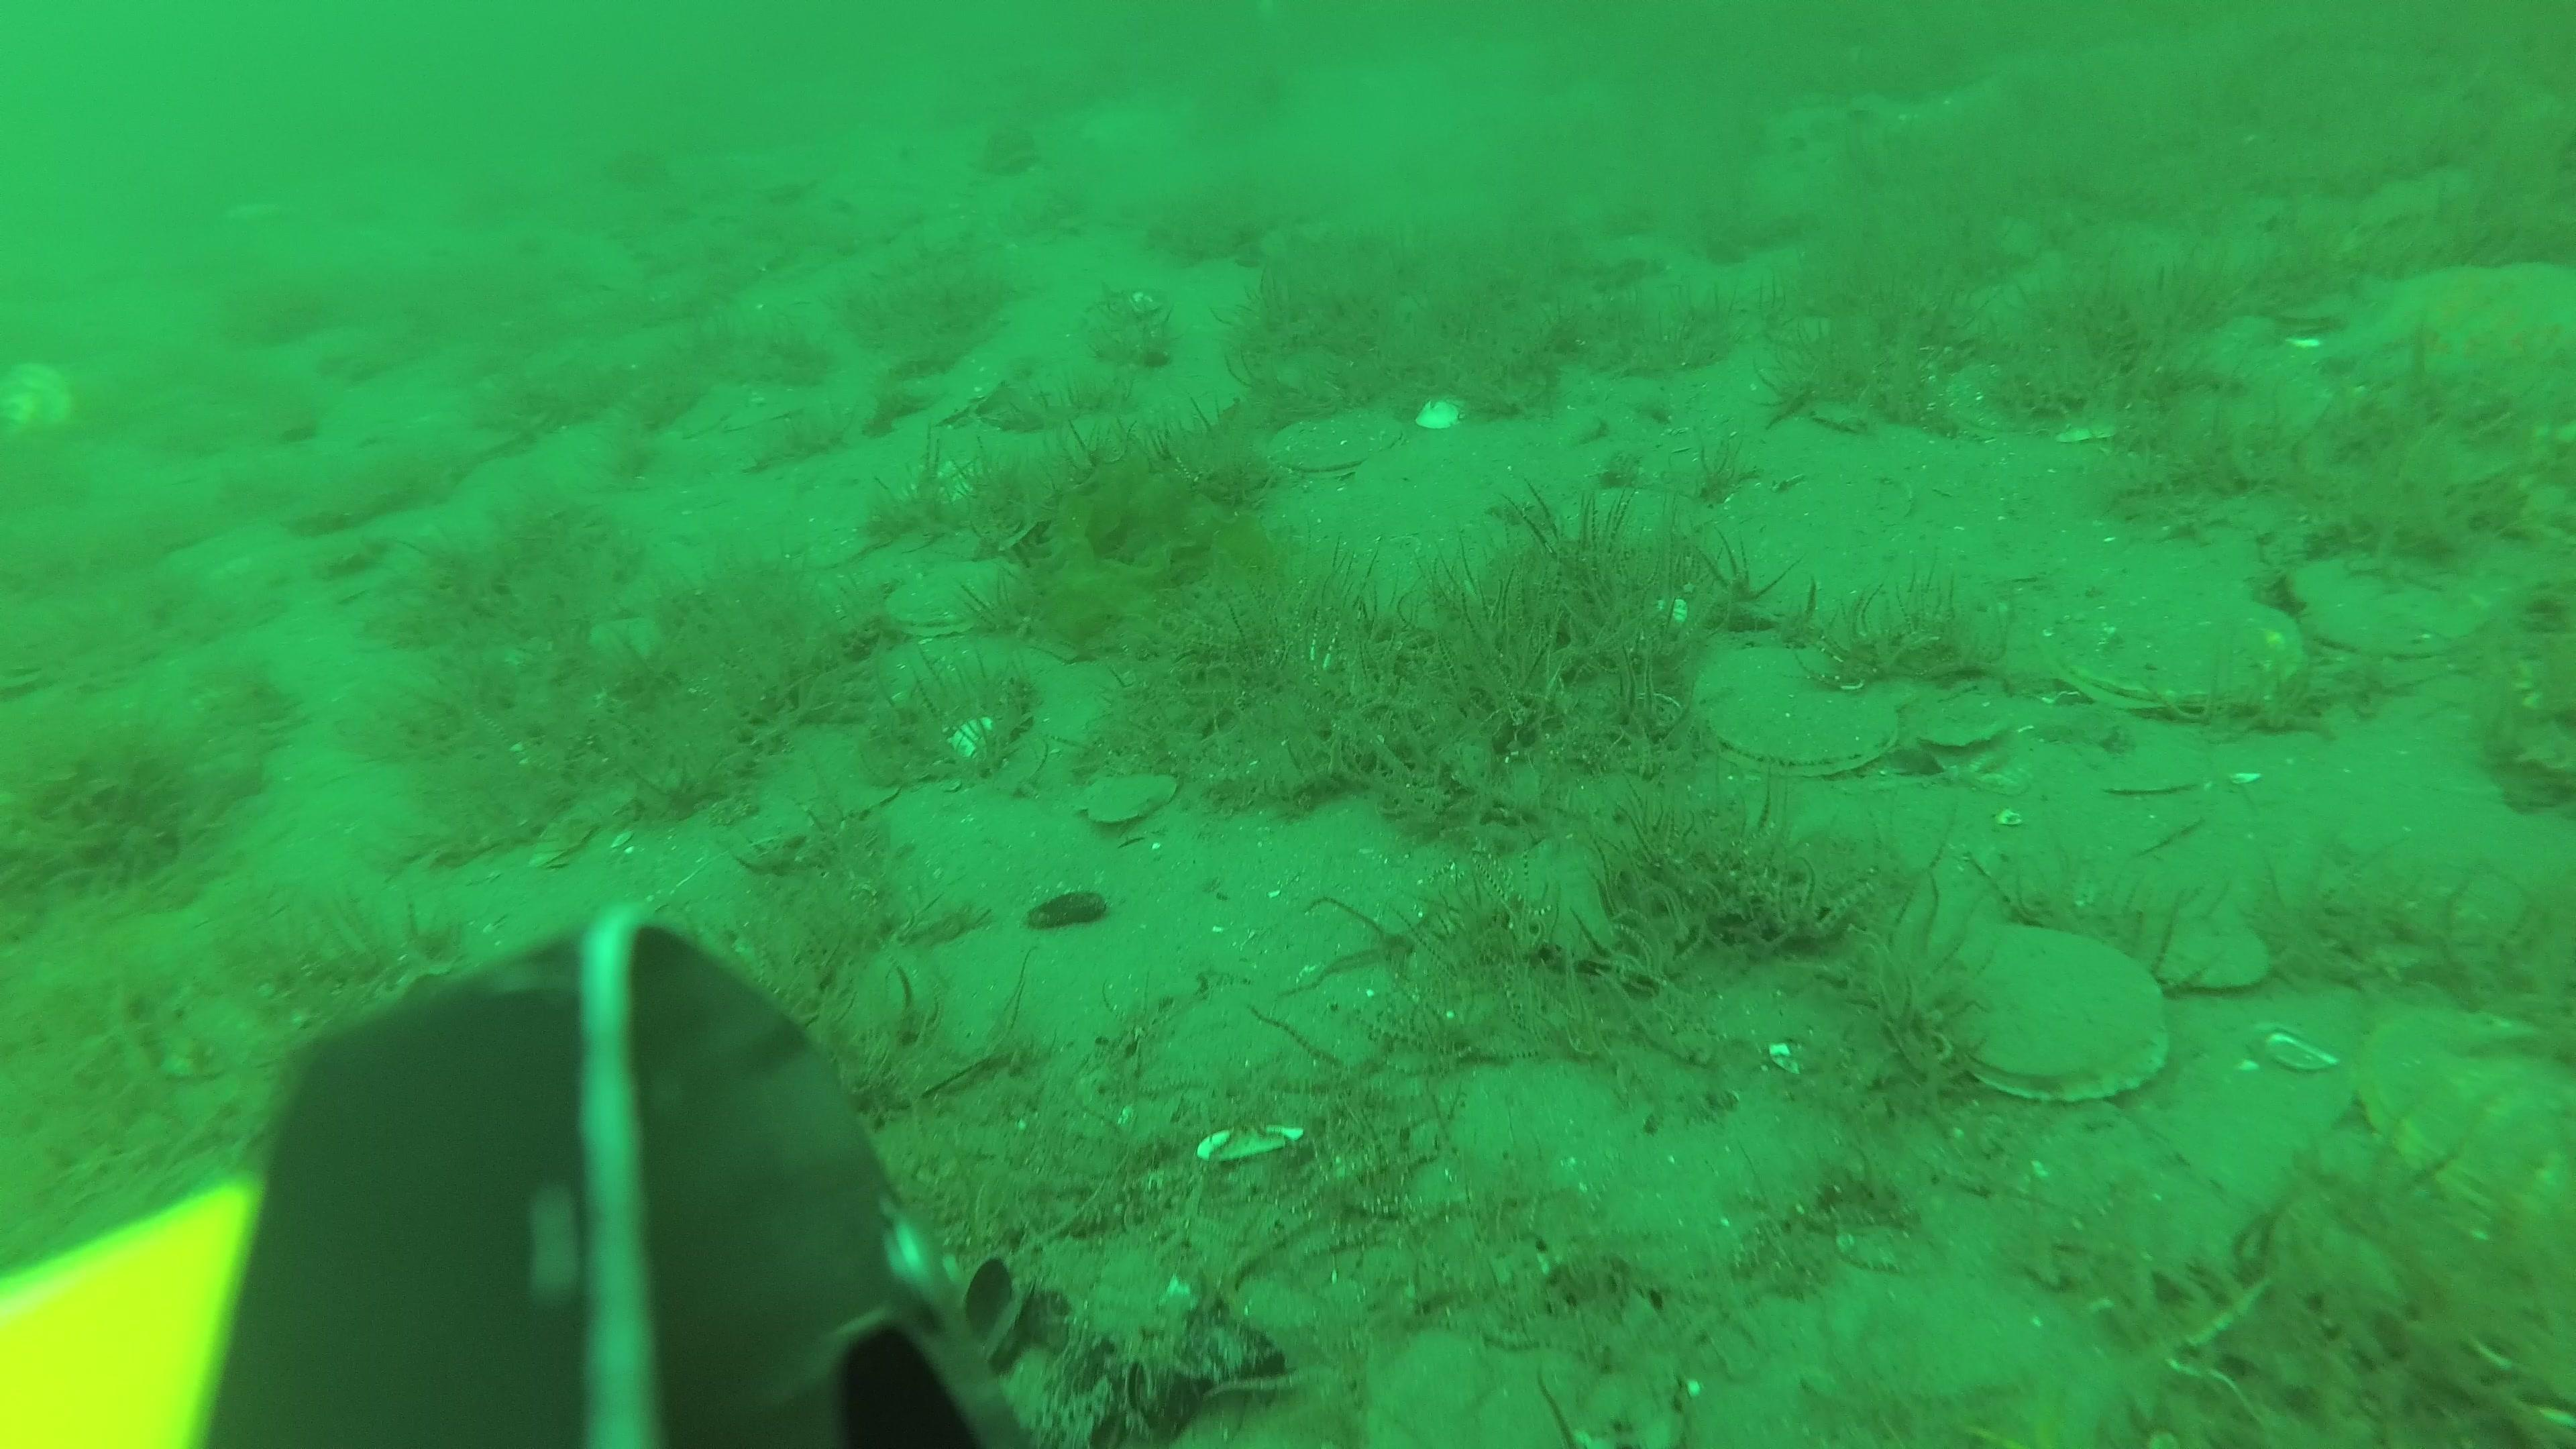scallop: (2362, 996, 2576, 1235), (1923, 918, 2164, 1104), (2042, 602, 2295, 718), (1693, 651, 1902, 777), (2293, 557, 2502, 663), (888, 554, 1024, 639), (1269, 409, 1410, 481), (2160, 908, 2272, 996), (1077, 766, 1184, 830), (0, 357, 80, 439), (1921, 708, 2010, 752)
starfish: (2335, 262, 2576, 389)
